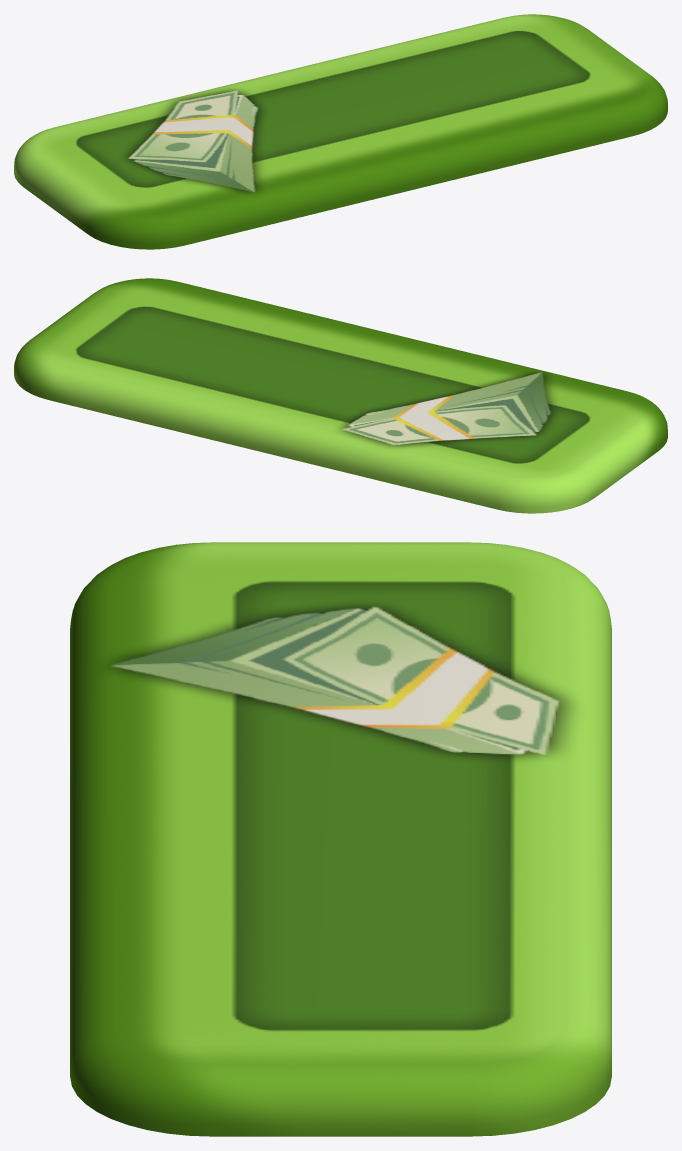
The model's file is BuildProcessHud-GreenButton.fbx.
The picture shows the model from 3 angles, top to bottom: view 1: azimuth 30°, elevation 25°; view 2: azimuth 150°, elevation 25°; view 3: azimuth 270°, elevation 25°; orthographic projection. The views are drawn at different scales.
Visible parts, largest first — view 1: GreenButton; view 2: GreenButton; view 3: GreenButton.
Part boxes in pixels (x1=…): GreenButton: x1=14, y1=14, x2=667, y2=249; GreenButton: x1=14, y1=278, x2=667, y2=513; GreenButton: x1=70, y1=542, x2=611, y2=1136.
Size of the model in its own units: 159 by 65.41 by 6.98.
Materials: 1 (1 with a texture image).
